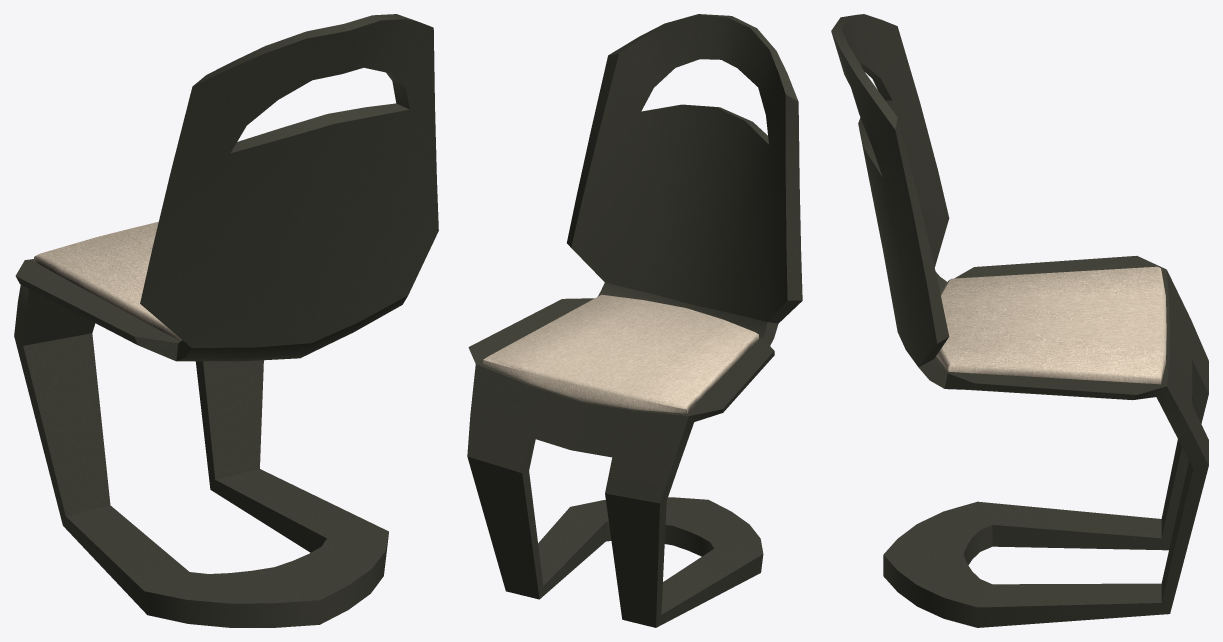
The model's file is Mdl.KitchenChair.fbx.
3 renders of one model, left to right at view 1: azimuth 30°, elevation 25°; view 2: azimuth 150°, elevation 25°; view 3: azimuth 270°, elevation 25°, orthographic. The views are drawn at different scales.
Parts seen in each view (by area): view 1: Mesh.KitchenChair; view 2: Mesh.KitchenChair; view 3: Mesh.KitchenChair.
Boxes of the visible parts, x1=… form: Mesh.KitchenChair: x1=14, y1=14, x2=438, y2=627; Mesh.KitchenChair: x1=467, y1=14, x2=802, y2=627; Mesh.KitchenChair: x1=831, y1=14, x2=1208, y2=627.
Size of the model in its own units: 0.5679 by 1.04 by 0.6509.
Materials: 1 (1 with a texture image).
